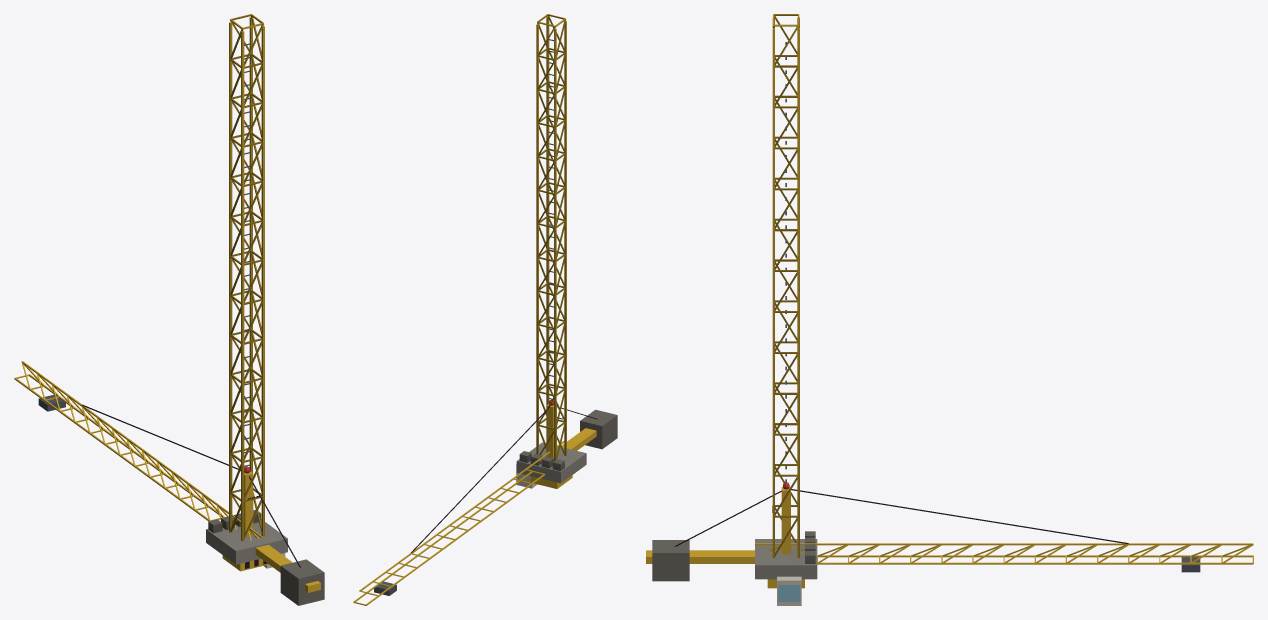
File: y_crane.glb
3 renders of one model, left to right at view 1: azimuth 30°, elevation 25°; view 2: azimuth 150°, elevation 25°; view 3: azimuth 270°, elevation 25°, orthographic. The views are drawn at different scales.
Parts seen in each view (by area): view 1: y_crane, DYN_jib; view 2: y_crane, DYN_jib; view 3: DYN_jib, y_crane.
Part boxes in pixels (x1,y1,x2,y2): y_crane: (206, 14, 287, 564); DYN_jib: (14, 361, 324, 605); y_crane: (516, 14, 586, 483); DYN_jib: (353, 399, 617, 605); DYN_jib: (646, 482, 1253, 605); y_crane: (755, 14, 817, 579).
Bounding box in the file's own units: 4.62 × 40.35 × 39.04.
